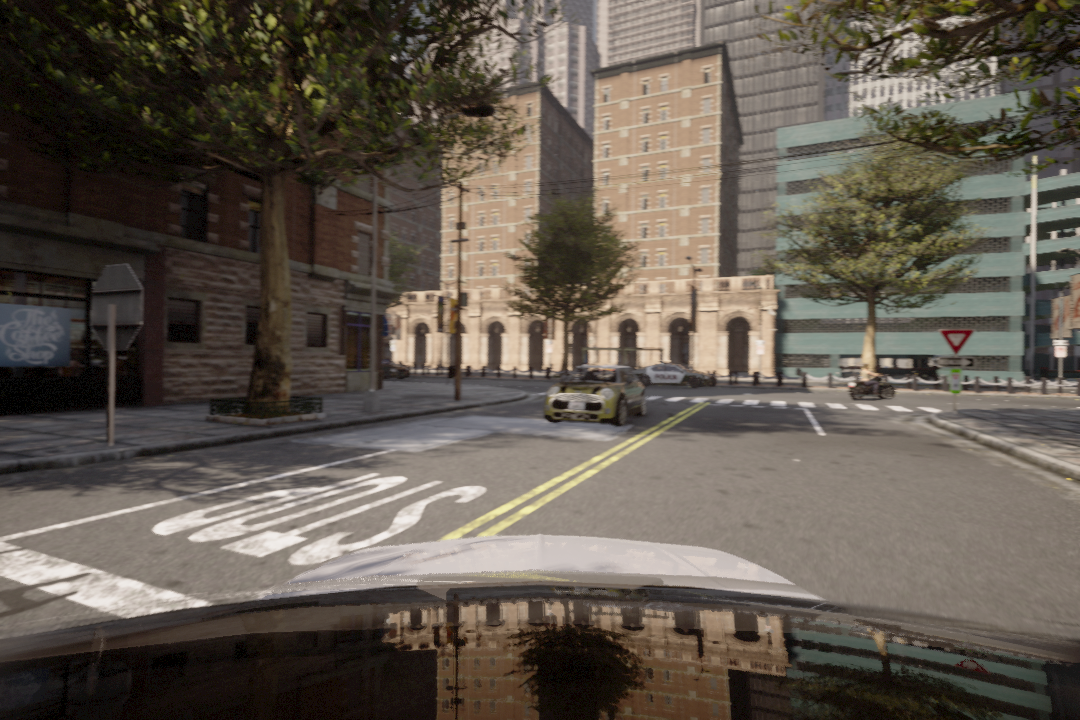walkside: (637, 391, 946, 417)
